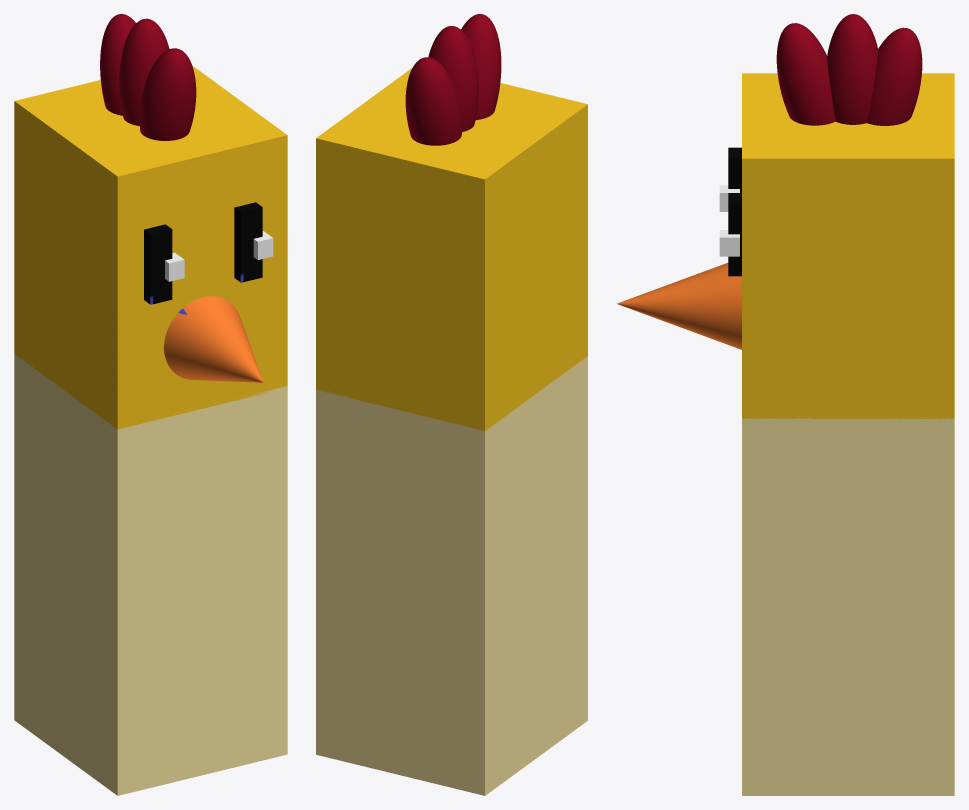
Rendered from Yellow_Hen.fbx.
3 renders of one model, left to right at view 1: azimuth 30°, elevation 25°; view 2: azimuth 150°, elevation 25°; view 3: azimuth 270°, elevation 25°, orthographic. The views are drawn at different scales.
Visible parts, largest first — view 1: root (×3), node_id211 (×3), node_id199, node_id202; view 2: root (×2), node_id211 (×3); view 3: root (×3), node_id211 (×3), node_id202, node_id199.
Boxes of the visible parts, bbox=[...] form: root (×3): bbox=[14, 65, 287, 795]; node_id211 (×3): bbox=[100, 14, 196, 140]; node_id199: bbox=[144, 224, 172, 304]; node_id202: bbox=[234, 202, 262, 282]; root (×2): bbox=[316, 68, 587, 795]; node_id211 (×3): bbox=[405, 14, 501, 145]; root (×3): bbox=[617, 73, 954, 795]; node_id211 (×3): bbox=[776, 14, 922, 125]; node_id202: bbox=[728, 193, 741, 276]; node_id199: bbox=[728, 147, 741, 192].
Size of the model in its own units: 0.0737 by 0.2969 by 0.1234.
8 materials, 8 textured.
